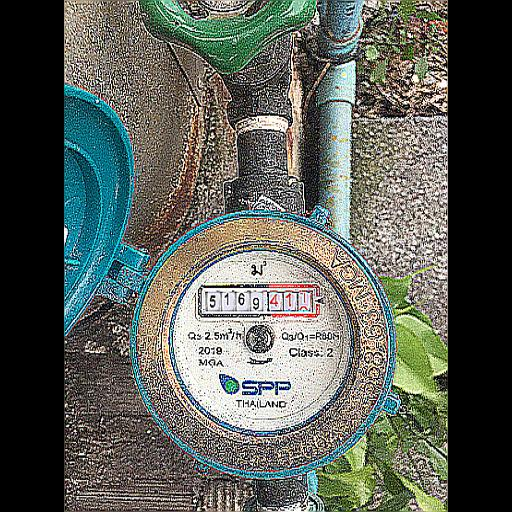1: (284, 293, 297, 312), (299, 293, 311, 312), (222, 293, 234, 311)
4: (269, 293, 282, 312)
5: (207, 293, 219, 312)
6: (237, 292, 249, 311)
9: (251, 293, 263, 312)
border_water_meter_number: (198, 284, 321, 318)
